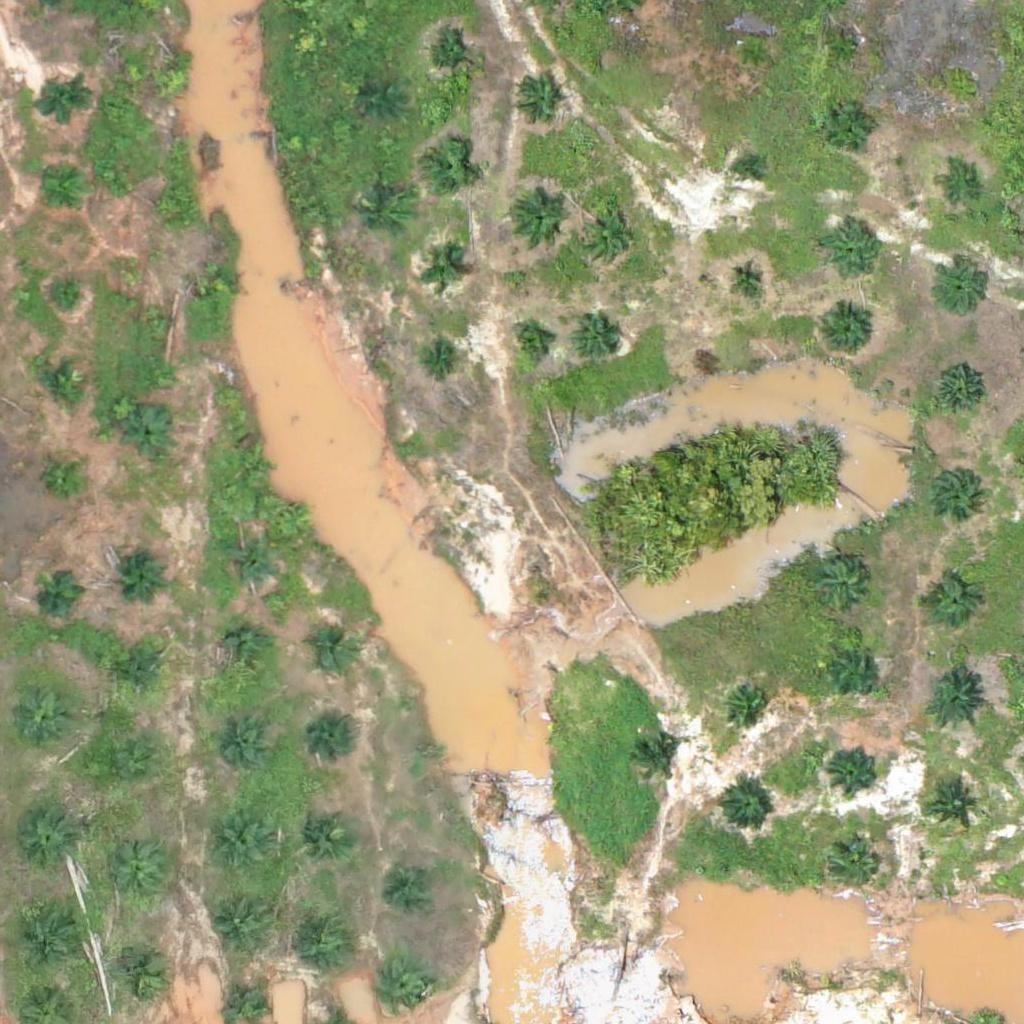Kelapa_Sawit: (95, 740, 158, 803), (210, 716, 273, 779), (208, 813, 271, 876), (295, 909, 358, 972), (209, 894, 272, 957), (924, 672, 987, 735), (575, 205, 638, 268), (17, 687, 79, 750), (19, 904, 81, 967), (16, 808, 78, 871), (105, 846, 167, 909), (110, 944, 172, 1007), (295, 804, 357, 867), (815, 301, 877, 364), (819, 219, 881, 282), (509, 187, 571, 250), (924, 577, 974, 628), (935, 263, 985, 314), (818, 562, 868, 613), (829, 645, 879, 696), (829, 743, 879, 794), (929, 782, 979, 833), (932, 364, 982, 415), (825, 100, 875, 151), (34, 358, 84, 409), (311, 715, 361, 765), (118, 546, 168, 596), (36, 571, 86, 621), (225, 541, 275, 591), (124, 410, 174, 460), (221, 626, 271, 676), (307, 625, 357, 675), (929, 467, 979, 517), (720, 783, 770, 833), (379, 966, 429, 1016), (389, 861, 439, 911), (831, 844, 881, 894), (723, 679, 773, 729), (632, 735, 682, 785), (115, 650, 165, 700), (426, 35, 476, 85), (424, 144, 474, 194), (513, 77, 563, 127), (573, 313, 623, 363), (38, 78, 88, 128), (36, 168, 86, 218), (362, 194, 412, 244), (938, 169, 976, 207), (233, 448, 271, 486), (45, 459, 83, 497), (423, 249, 461, 287), (424, 340, 462, 378), (511, 323, 549, 361), (137, 300, 175, 338), (147, 187, 185, 225), (153, 62, 191, 100), (730, 260, 767, 298), (201, 262, 238, 300), (734, 36, 772, 73), (364, 82, 401, 120), (827, 30, 864, 68), (47, 281, 84, 318), (736, 157, 761, 182)
